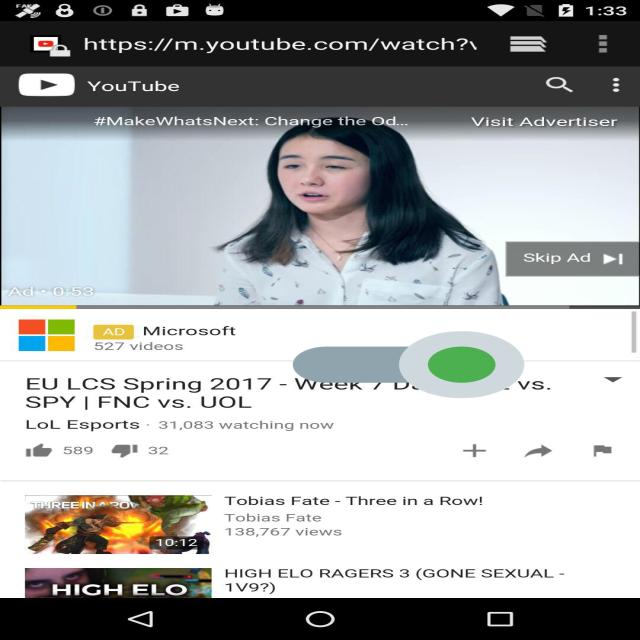social proof: (293, 303, 524, 427)
